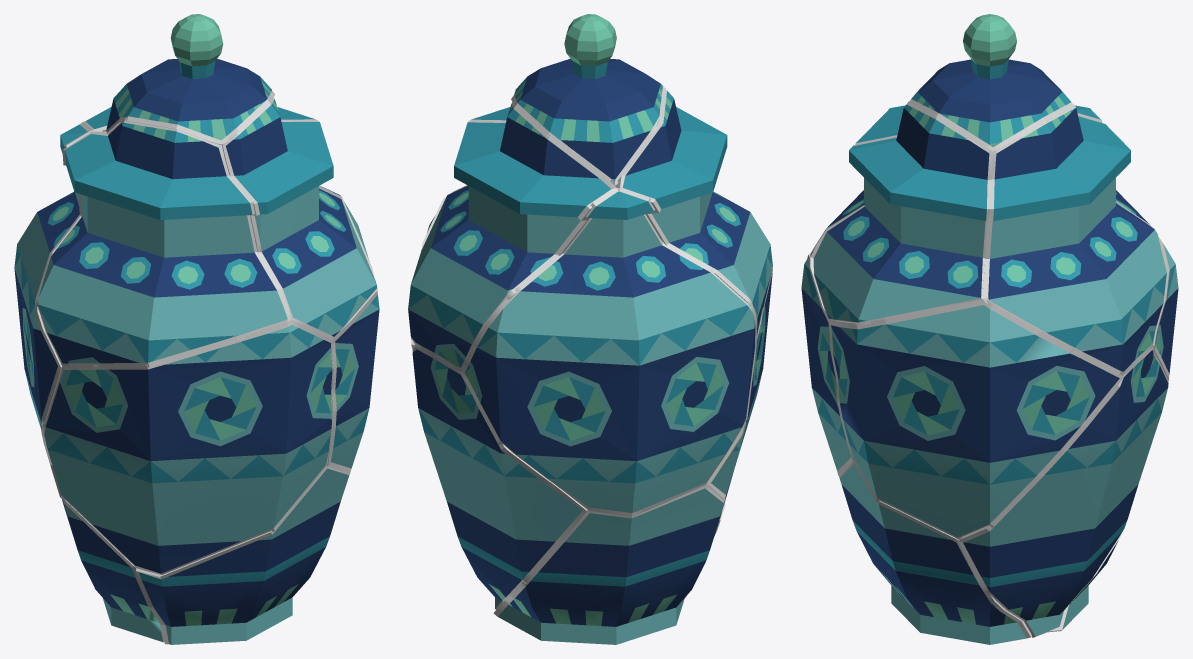
File: v18_blue.fbx
The picture shows the model from 3 angles, left to right: view 1: azimuth 30°, elevation 25°; view 2: azimuth 150°, elevation 25°; view 3: azimuth 270°, elevation 25°; orthographic projection.
Visible parts, largest first — view 1: shard6, shard5, shard8, shard7, shard10, shard3, shard9, shard2, gold5, gold6, gold9, gold7 (+4 smaller); view 2: shard3, shard4, shard2, shard1, shard5, shard10, gold3, shard6, gold4, gold1, gold10, gold5 (+2 smaller); view 3: shard9, shard4, shard8, shard1, shard7, shard10, shard6, gold9, shard3, gold4, gold8, shard5 (+5 smaller).
Part boxes in pixels (box(x1,y1,x2,y2)): shard6: box(44, 325, 332, 573); shard5: box(38, 123, 287, 363); shard8: box(226, 99, 376, 336); shard7: box(139, 468, 349, 644); shard10: box(103, 14, 271, 140); shard3: box(14, 124, 87, 430); shard9: box(330, 202, 379, 468); shard2: box(62, 499, 162, 641); gold5: box(35, 118, 290, 367); gold6: box(41, 320, 333, 574); gold9: box(327, 198, 377, 474); gold7: box(136, 466, 349, 644); shard3: box(464, 191, 755, 512); shard4: box(408, 104, 610, 367); shard2: box(498, 488, 723, 644); shard1: box(412, 349, 582, 608); shard5: box(622, 91, 772, 334); shard10: box(514, 14, 662, 181); gold3: box(461, 187, 757, 516); shard6: box(711, 273, 772, 506); gold4: box(411, 102, 616, 371); gold1: box(412, 346, 587, 609); gold10: box(511, 86, 666, 185); gold5: box(615, 90, 772, 335); shard9: box(831, 305, 1119, 537); shard4: box(988, 108, 1166, 371); shard8: box(813, 104, 989, 322); shard1: box(963, 350, 1168, 636); shard7: box(839, 464, 1026, 644); shard10: box(911, 14, 1071, 146); shard6: box(801, 259, 850, 470); gold9: box(828, 299, 1123, 539); shard3: box(1075, 105, 1178, 373); gold4: box(983, 103, 1166, 375); gold8: box(813, 101, 992, 326); shard5: box(810, 105, 905, 253).
Bounding box in the file's own units: 10.2 × 17.58 × 10.2.
